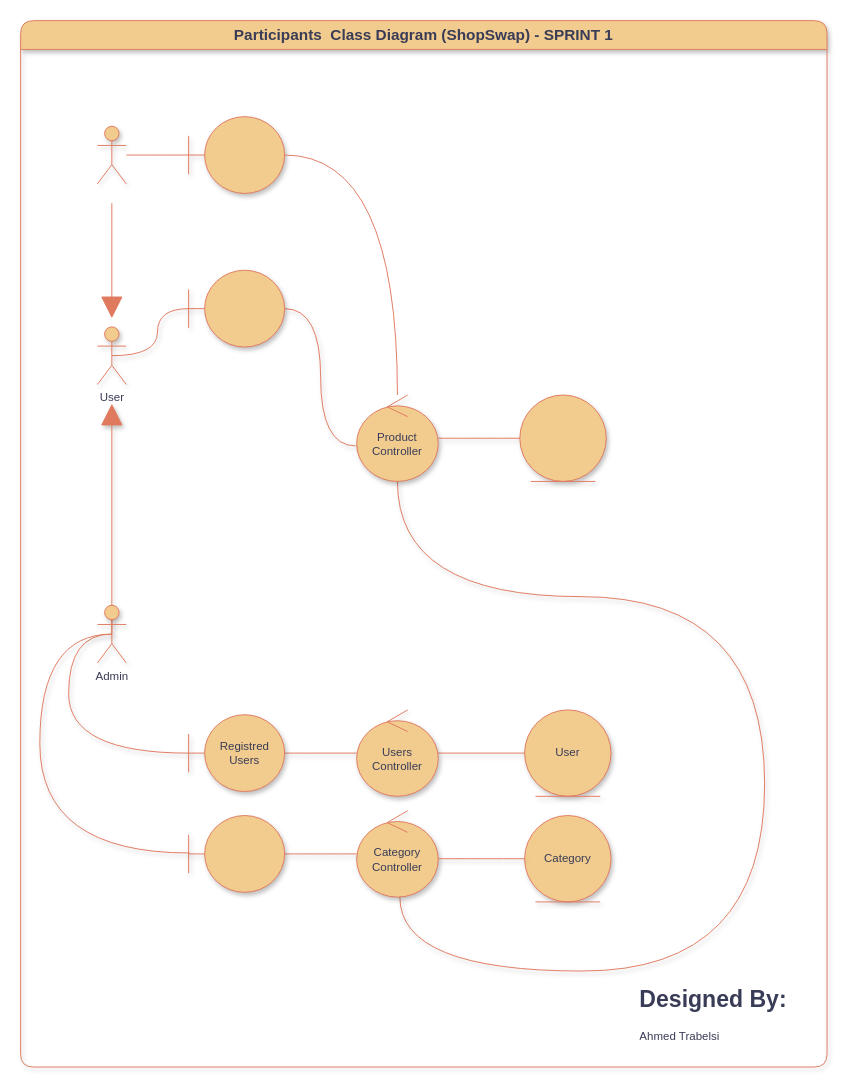
This 850x1091 diagram has some shape labels left out. The shapes that lost their labels are listed below. From the top down, each one's centre as x and y in pixels, then its label:
At [112,156]: "Seller".
At [237,156]: "New Product".
At [237,309]: "Registred Products".
At [563,439]: "Product".
At [237,855]: "Categories".
